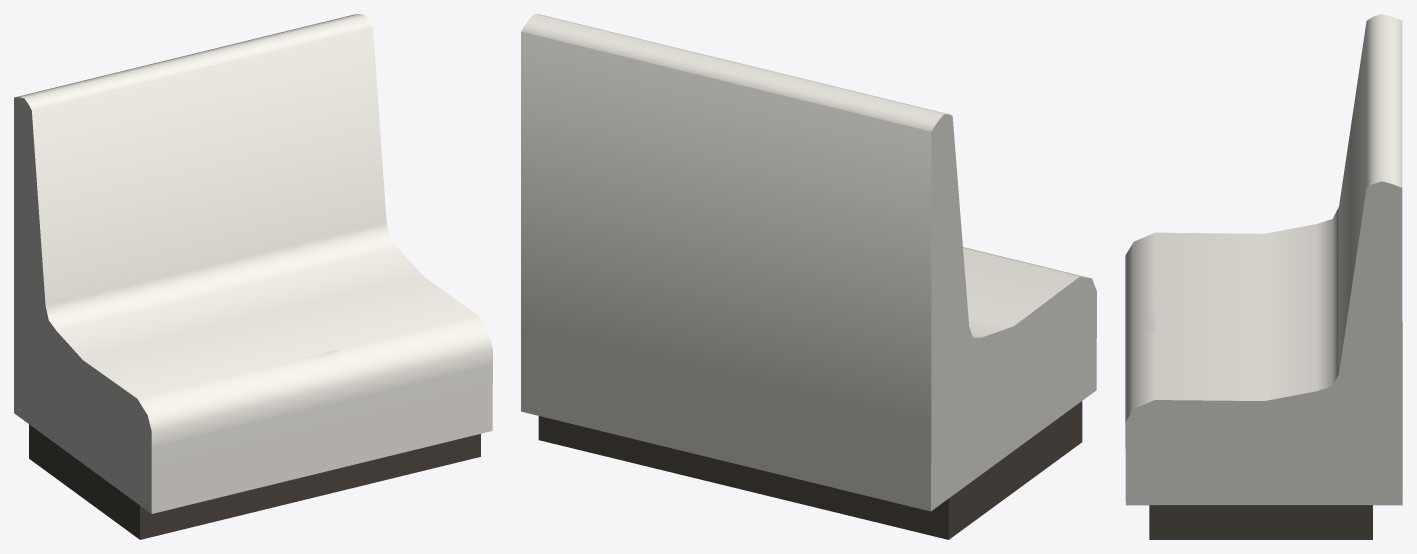
The model's file is chair_long.fbx.
3 renders of one model, left to right at view 1: azimuth 30°, elevation 25°; view 2: azimuth 150°, elevation 25°; view 3: azimuth 270°, elevation 25°, orthographic. The views are drawn at different scales.
Visible parts, largest first — view 1: mesh_ChairLong; view 2: mesh_ChairLong; view 3: mesh_ChairLong.
Boxes of the visible parts, x1,y1,x2,y2 form: mesh_ChairLong: (14,14,492,539); mesh_ChairLong: (521,14,1096,539); mesh_ChairLong: (1125,14,1402,539).
Size of the model in its own units: 1 by 1 by 0.7.
1 material, 1 textured.
